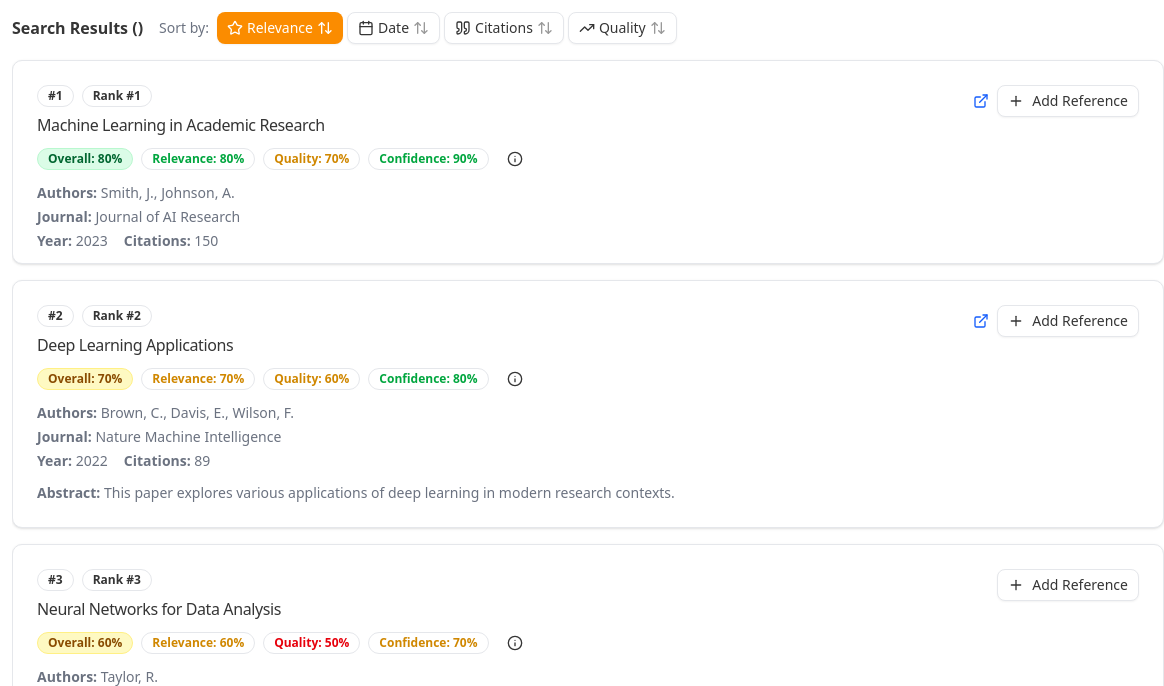
Test: SearchResultsDisplay › shows confidence details when info button is clicked
The width and height of the screenshot is (1164, 686).
Click the button without text next to "90".
click(514, 159)  # box top-left (496, 147), bottom-right (532, 171)
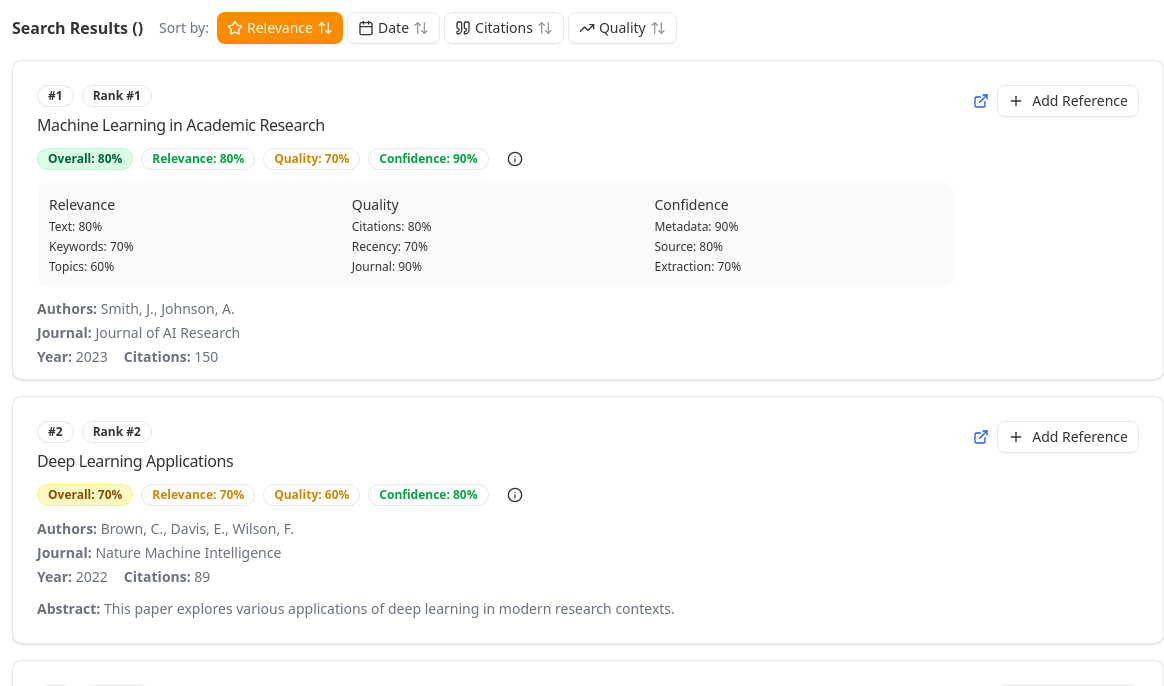
expect the text "Confidence" is shown once: met, box top-left (654, 195), bottom-right (729, 214)
expect the text "Text: 80%" is shown: met, box top-left (49, 218), bottom-right (102, 235)
expect the text "Keywords: 70%" is shown: met, box top-left (49, 238), bottom-right (134, 255)
